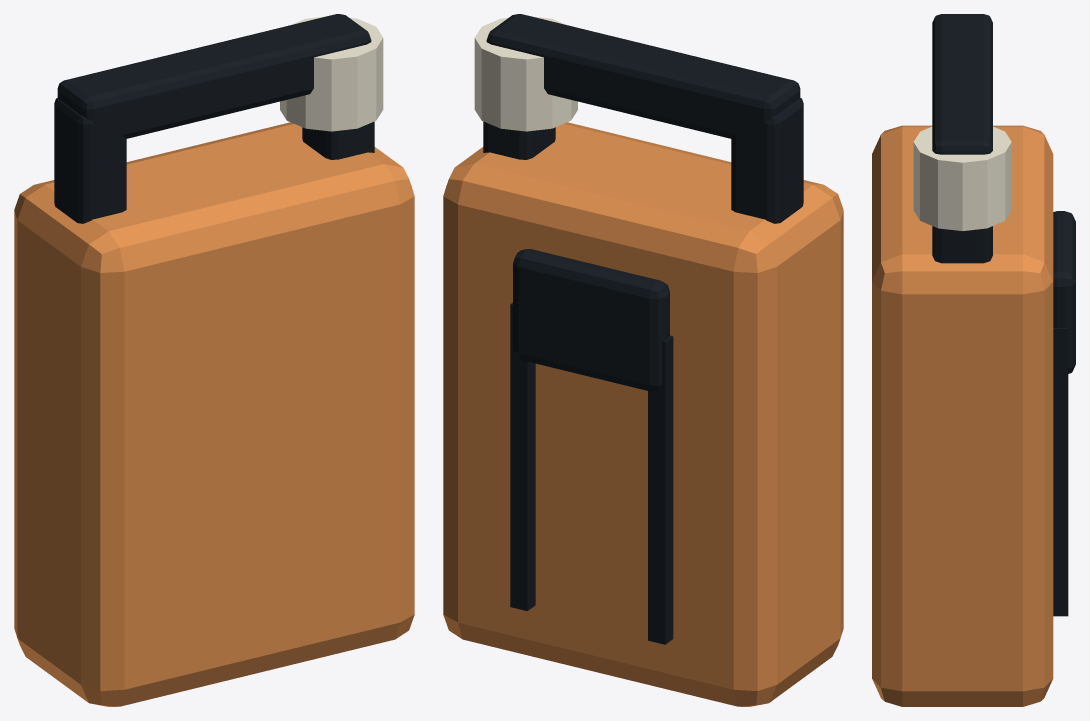
File: fuel_can.glb
The picture shows the model from 3 angles, left to right: view 1: azimuth 30°, elevation 25°; view 2: azimuth 150°, elevation 25°; view 3: azimuth 270°, elevation 25°; orthographic projection. The views are drawn at different scales.
Visible parts, largest first — view 1: FuelCan, Handle.002, Handle, FuelCap, Handle.001; view 2: FuelCan, Handle.002, FuelCanInner, Handle, PressedRib, FuelCap, PressedRib.001, Handle.001; view 3: FuelCan, Handle.002, FuelCap, PressedRib.001, FuelCanInner, Handle.001.
Boxes of the visible parts, box(x1,y1,x2,y2) form: FuelCan: box(14, 122, 414, 706); Handle.002: box(57, 14, 371, 139); Handle: box(54, 97, 126, 223); FuelCap: box(280, 16, 383, 131); Handle.001: box(302, 121, 374, 159); FuelCan: box(443, 122, 843, 706); Handle.002: box(486, 14, 800, 141); FuelCanInner: box(513, 249, 669, 391); Handle: box(731, 97, 803, 223); PressedRib: box(648, 335, 673, 644); FuelCap: box(474, 16, 577, 131); PressedRib.001: box(510, 302, 535, 611); Handle.001: box(483, 121, 555, 159); FuelCan: box(872, 125, 1053, 706); Handle.002: box(932, 14, 992, 154); FuelCap: box(913, 126, 1011, 231); PressedRib.001: box(1053, 327, 1068, 616); FuelCanInner: box(1053, 211, 1075, 373); Handle.001: box(932, 226, 992, 263).
Bounding box in the file's own units: 0.48 × 0.825 × 0.27.
